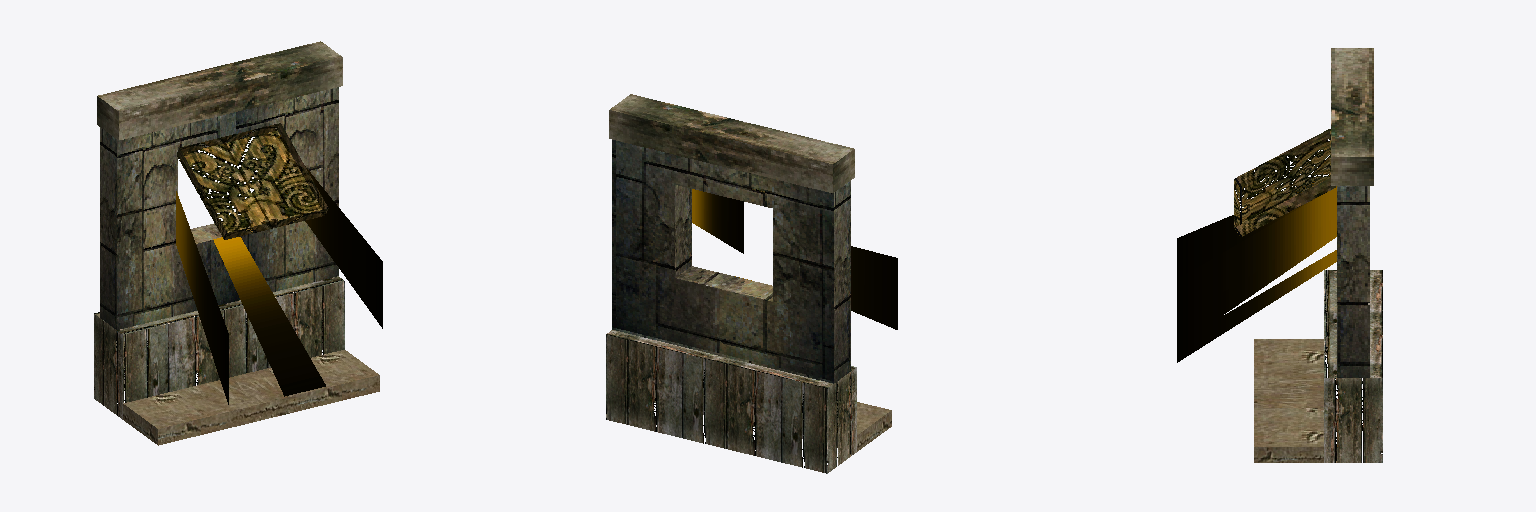
3 views of the same model, side by side, from view 1: azimuth 30°, elevation 25°; view 2: azimuth 150°, elevation 25°; view 3: azimuth 270°, elevation 25° (orthographic).
Visible parts, largest first — view 1: Mesh_1, Mesh_2, Mesh_4, Mesh_0, Mesh_3; view 2: Mesh_1, Mesh_2, Mesh_4, Mesh_3; view 3: Mesh_4, Mesh_2, Mesh_3, Mesh_1, Mesh_0.
Part boxes in pixels (x1,y1,x2,y2): Mesh_1: (100, 87, 338, 329); Mesh_2: (94, 41, 344, 419); Mesh_4: (176, 135, 382, 404); Mesh_0: (177, 123, 328, 239); Mesh_3: (123, 350, 379, 445); Mesh_1: (612, 140, 850, 383); Mesh_2: (606, 94, 856, 473); Mesh_4: (692, 189, 897, 329); Mesh_3: (857, 402, 891, 451); Mesh_4: (1177, 175, 1336, 362); Mesh_2: (1324, 48, 1382, 462); Mesh_3: (1254, 339, 1323, 462); Mesh_1: (1337, 186, 1369, 377); Mesh_0: (1234, 129, 1335, 236).
Bounding box in the file's own units: 2.02 × 2.64 × 1.61.
5 materials, 5 textured.